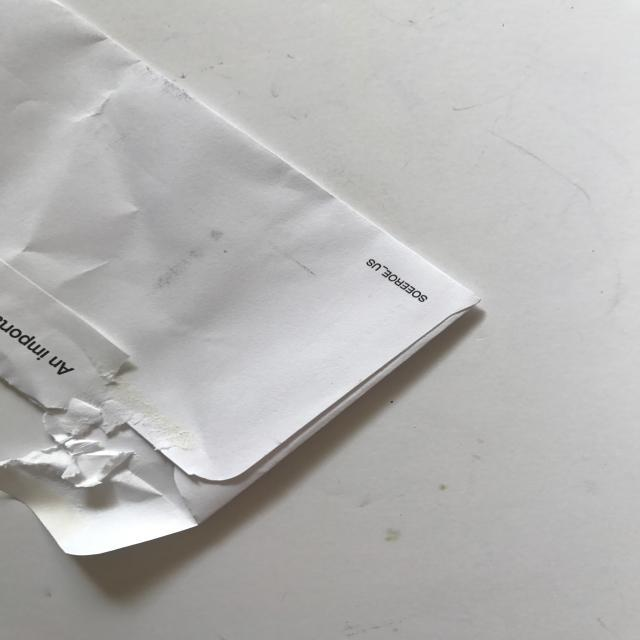paper: (0, 2, 480, 560)
